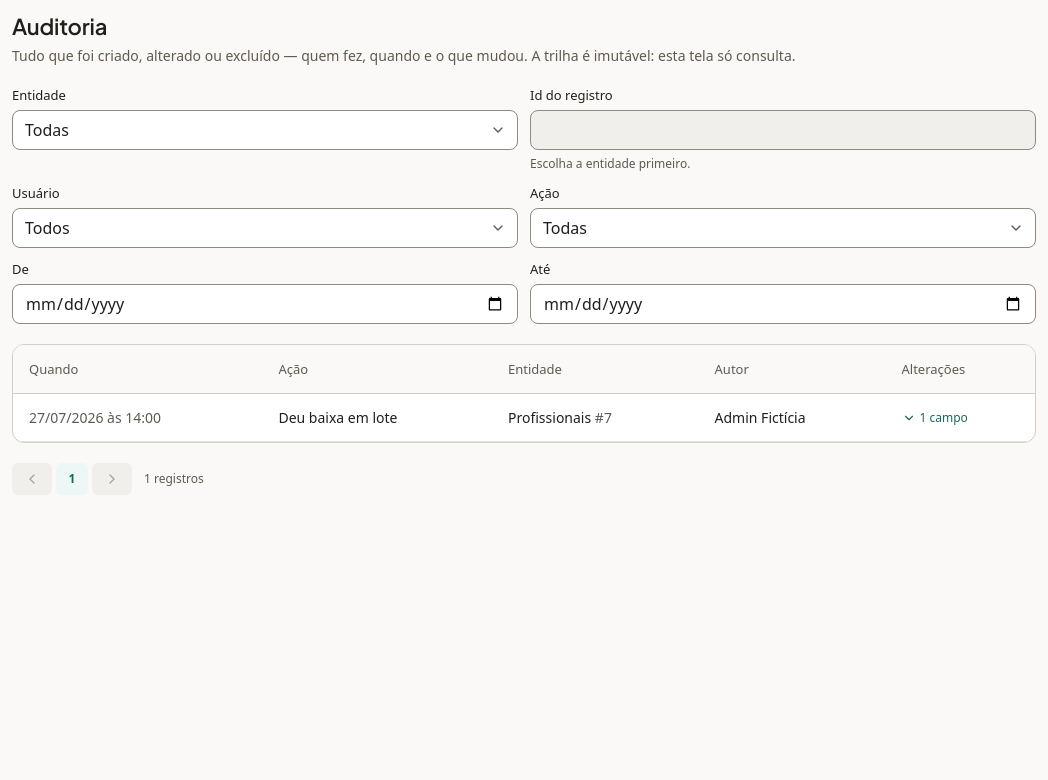
Scenario: deve listar os recusados do lote com o motivo traduzido, não como JSON
What coordinates should you click on to do the following:
click the button "1 campo"
I would click on:
 (935, 418)
Its box is [902, 410, 968, 426].
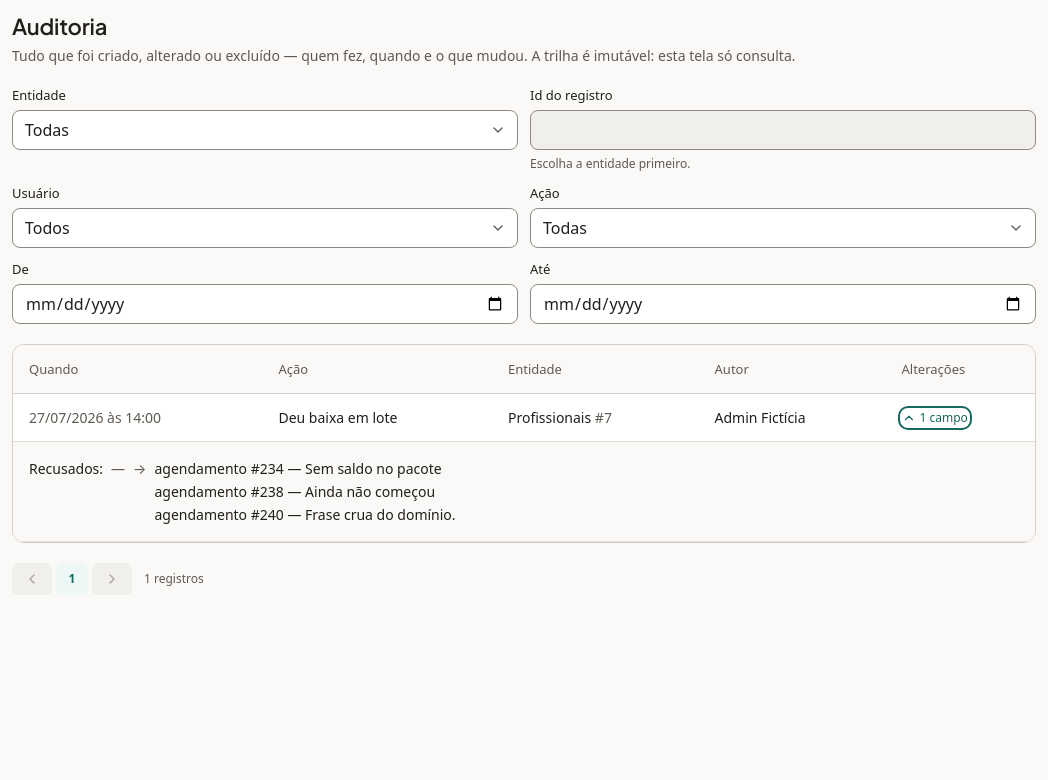
Now the list item "agendamento #234 — Sem saldo no pacote" is shown, box [154, 458, 456, 479]
Now the list item "agendamento #238 — Ainda não começou" is shown, box [154, 481, 456, 502]
Now the list item "agendamento #240 — Frase crua do domínio." is shown, box [154, 504, 456, 525]
